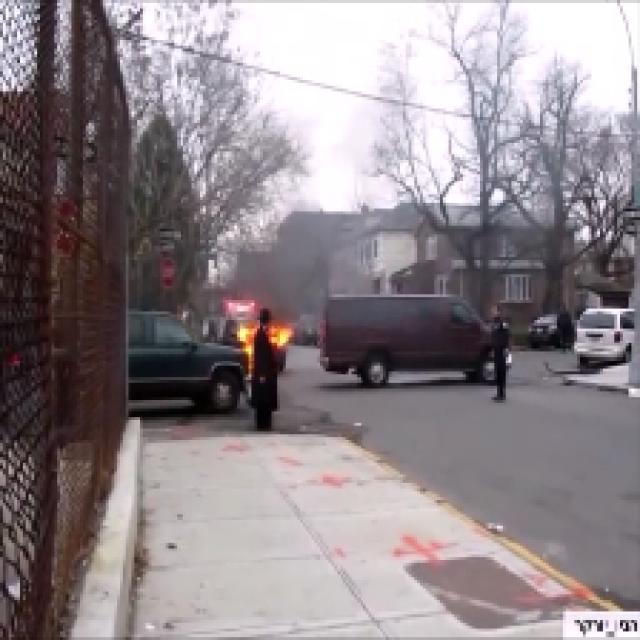fire: (268, 328, 293, 350), (239, 326, 253, 362)
